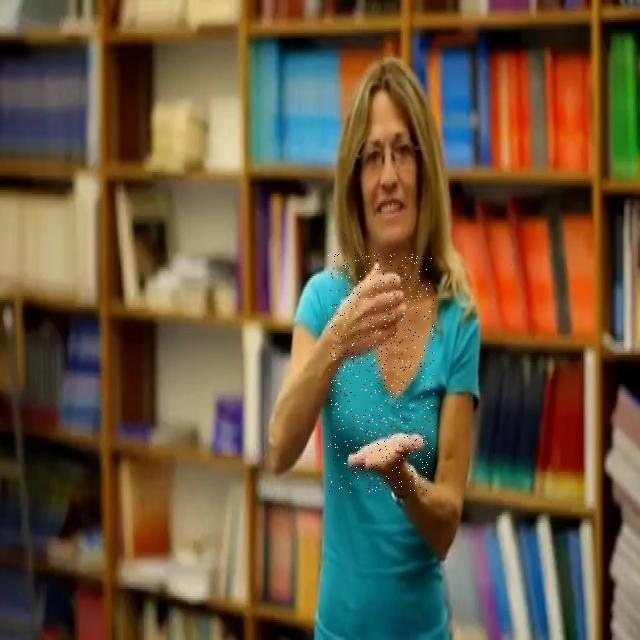cup: (328, 254, 434, 493)
